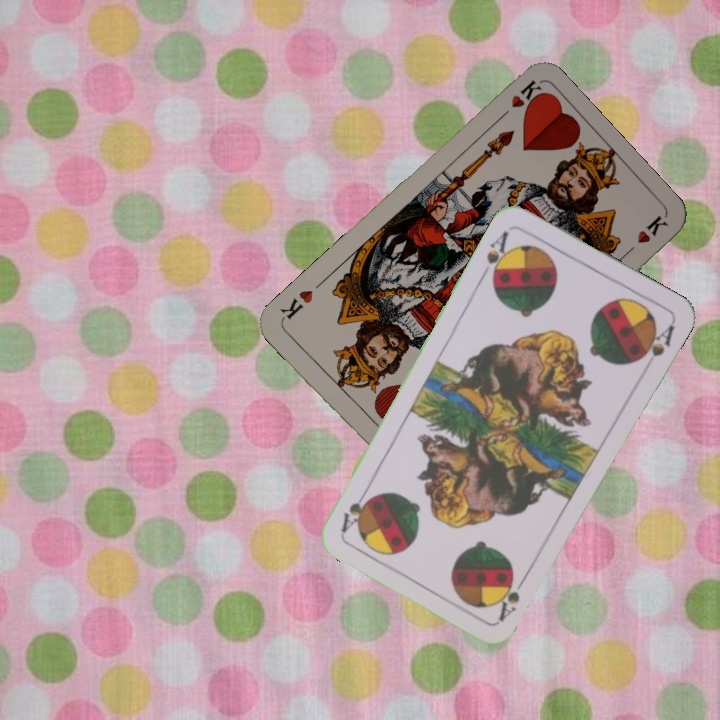HK: (492, 76, 546, 124)
SA: (478, 227, 514, 284), (494, 569, 531, 624)
